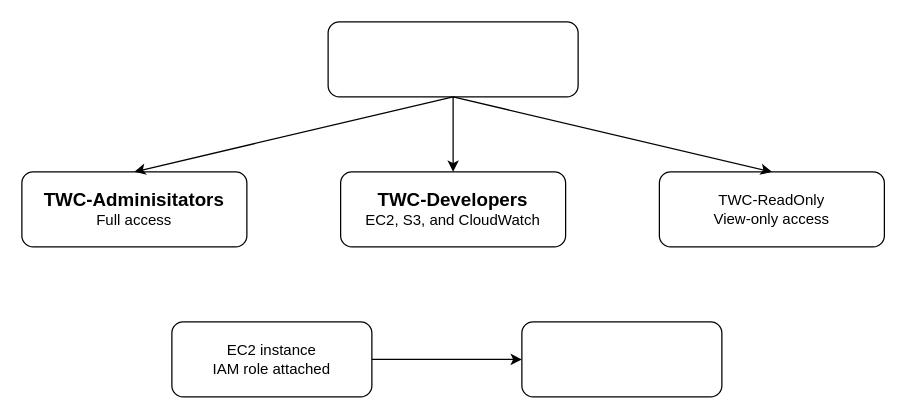
The diagram is 906 pixels wide and 419 high, and some of its shapes have lost their labels. The centre of each missing label's shape, as x and y in pixels:
"Root account MFA enabled, locked down" belongs at (x=452, y=59).
"S3 bucket Product assets" belongs at (x=621, y=359).
